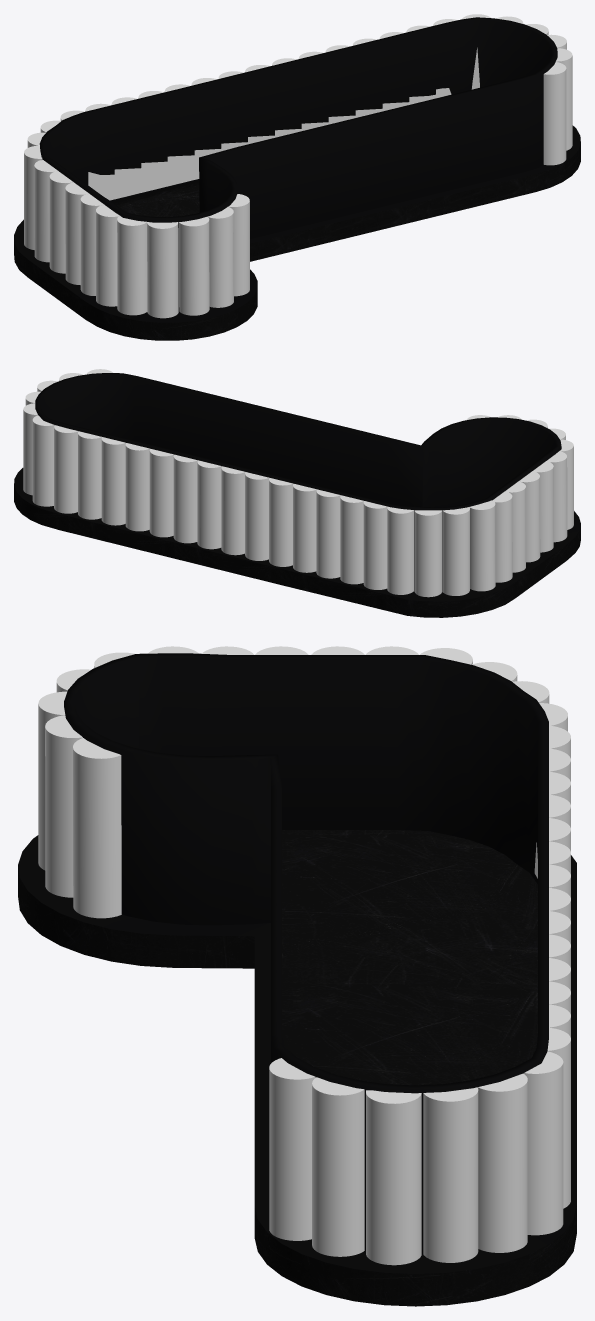
File: Reception_Table.fbx
The picture shows the model from 3 angles, top to bottom: view 1: azimuth 30°, elevation 25°; view 2: azimuth 150°, elevation 25°; view 3: azimuth 270°, elevation 25°; orthographic projection. The views are drawn at different scales.
Parts seen in each view (by area): view 1: Circle, Cylinder.023, Cylinder.024, Cylinder.022, Cylinder.025, Cylinder.033, Cylinder.021, Cylinder.018, Cylinder.026, Cylinder.019, Cylinder.017, Cylinder.020 (+6 smaller); view 2: Circle, Cylinder.014, Cylinder.015, Cylinder, Cylinder.016, Cylinder.003, Cylinder.001, Cylinder.008, Cylinder.009, Cylinder.010, Cylinder.011, Cylinder.012 (+15 smaller); view 3: Circle, Cylinder.031, Cylinder.030, Cylinder.032, Cylinder.029, Cylinder.026, Cylinder.033, Cylinder.028, Cylinder.025, Cylinder.024, Cylinder.027.
Part boxes in pixels (x1=…): Circle: x1=14, y1=17, x2=580, y2=340; Cylinder.023: x1=147, y1=222, x2=178, y2=318; Cylinder.024: x1=179, y1=216, x2=209, y2=315; Cylinder.022: x1=117, y1=216, x2=147, y2=315; Cylinder.025: x1=208, y1=207, x2=233, y2=307; Cylinder.033: x1=543, y1=62, x2=566, y2=165; Cylinder.021: x1=96, y1=205, x2=119, y2=306; Cylinder.018: x1=49, y1=171, x2=73, y2=273; Cylinder.026: x1=228, y1=194, x2=249, y2=296; Cylinder.019: x1=65, y1=182, x2=89, y2=284; Cylinder.017: x1=34, y1=159, x2=57, y2=262; Cylinder.020: x1=80, y1=194, x2=104, y2=295; Circle: x1=14, y1=373, x2=580, y2=617; Cylinder.014: x1=414, y1=510, x2=442, y2=597; Cylinder.015: x1=442, y1=507, x2=469, y2=595; Cylinder: x1=387, y1=506, x2=413, y2=594; Cylinder.016: x1=469, y1=500, x2=495, y2=591; Cylinder.003: x1=316, y1=489, x2=340, y2=578; Cylinder.001: x1=363, y1=501, x2=387, y2=589; Cylinder.008: x1=197, y1=460, x2=221, y2=549; Cylinder.009: x1=173, y1=454, x2=197, y2=543; Cylinder.010: x1=149, y1=448, x2=173, y2=537; Cylinder.011: x1=125, y1=443, x2=149, y2=531; Cylinder.012: x1=101, y1=437, x2=125, y2=525; Circle: x1=18, y1=653, x2=576, y2=1306; Cylinder.031: x1=366, y1=1090, x2=421, y2=1265; Cylinder.030: x1=423, y1=1087, x2=478, y2=1262; Cylinder.032: x1=312, y1=1077, x2=364, y2=1256; Cylinder.029: x1=478, y1=1073, x2=527, y2=1252; Cylinder.026: x1=73, y1=738, x2=121, y2=918; Cylinder.033: x1=269, y1=1058, x2=315, y2=1240; Cylinder.028: x1=524, y1=1051, x2=563, y2=1235; Cylinder.025: x1=45, y1=715, x2=82, y2=897; Cylinder.024: x1=38, y1=691, x2=66, y2=870; Cylinder.027: x1=547, y1=1027, x2=570, y2=1208.
Bounding box in the file's own units: 3995 × 780 × 1988.
2 materials, 1 textured.
